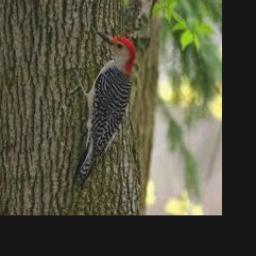Woodpecker: (69, 30, 136, 181)
